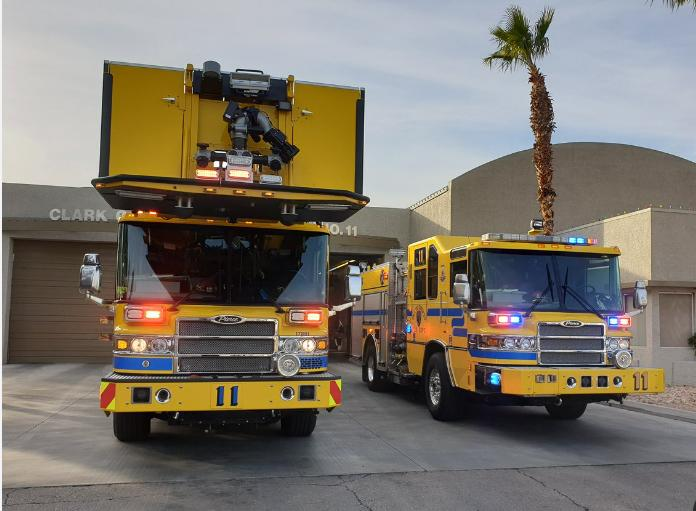firetruck_on: (78, 60, 365, 441), (349, 228, 670, 422)
